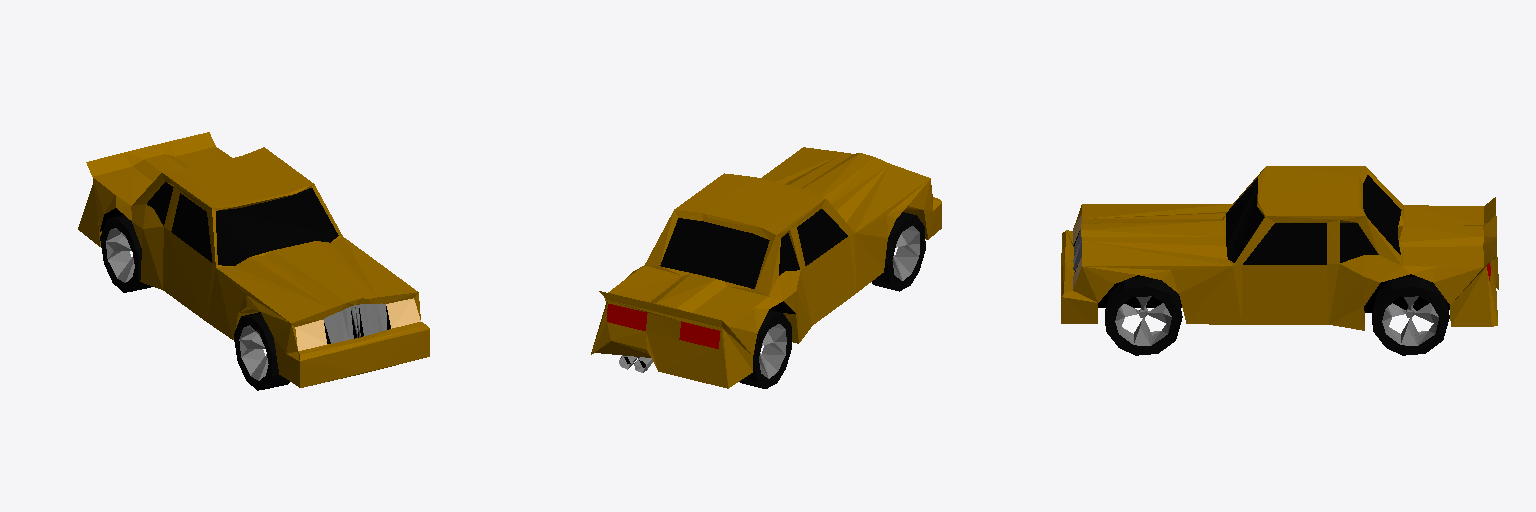
File: montana_all_model.obj
3 views of the same model, side by side, from view 1: azimuth 30°, elevation 25°; view 2: azimuth 150°, elevation 25°; view 3: azimuth 270°, elevation 25° (orthographic).
Parts seen in each view (by area): view 1: Plane.002, Circle.003, Circle.004; view 2: Plane.002, Circle.003, Circle.004; view 3: Plane.002, Circle.001, Circle.002.
Boxes of the visible parts, <box> form: Plane.002: <box>78,132,429,387</box>; Circle.003: <box>234,312,289,390</box>; Circle.004: <box>100,215,152,292</box>; Plane.002: <box>591,147,941,388</box>; Circle.003: <box>872,212,925,291</box>; Circle.004: <box>739,310,791,388</box>; Plane.002: <box>1061,166,1498,330</box>; Circle.001: <box>1105,277,1182,355</box>; Circle.002: <box>1372,277,1449,355</box>.
Size of the model in its own units: 2.85 by 2.42 by 7.38.